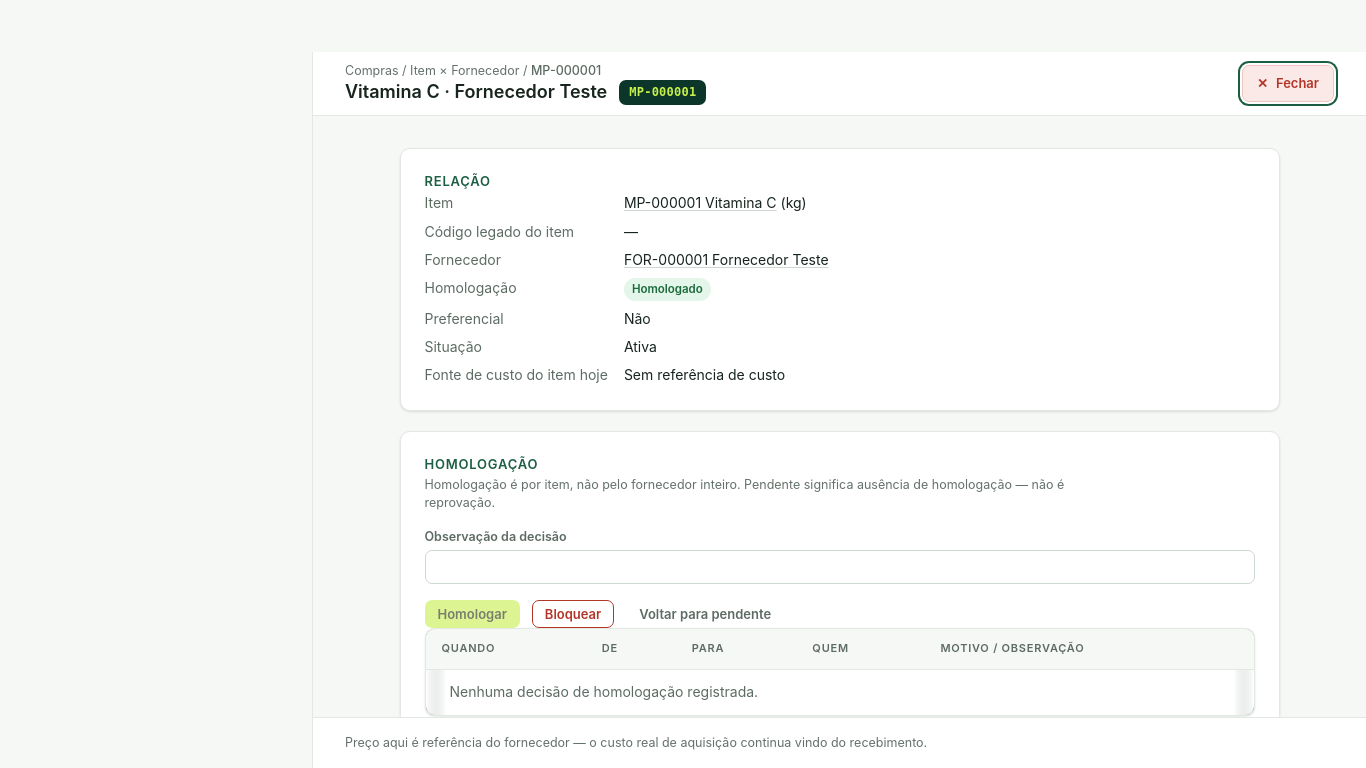
Scenario: SUPPLIER-QUALITY-REJECTION-REASON-01 — Bloquear no detalhe da relação › recusa do servidor aparece com a frase, e o motivo digitado não se perde
Expected: the heading "Vitamina C · Fornecedor Teste" is shown, x1=345 y1=81 x2=607 y2=104
Click the button "Bloquear": coordinates (573, 614) x1=532 y1=600 x2=614 y2=628
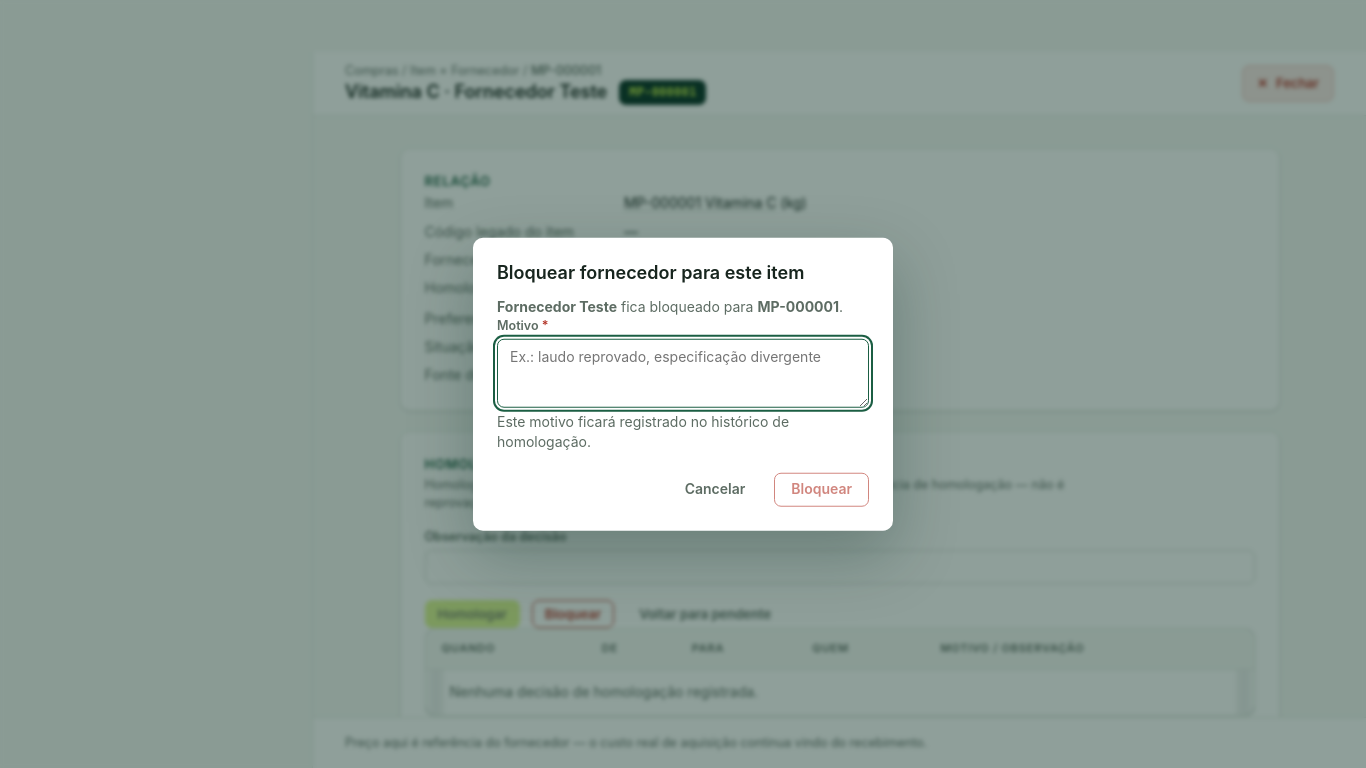
In the text box labelled "Motivo *": coordinates (683, 373) x1=497 y1=339 x2=869 y2=408, type "Laudo reprovado"
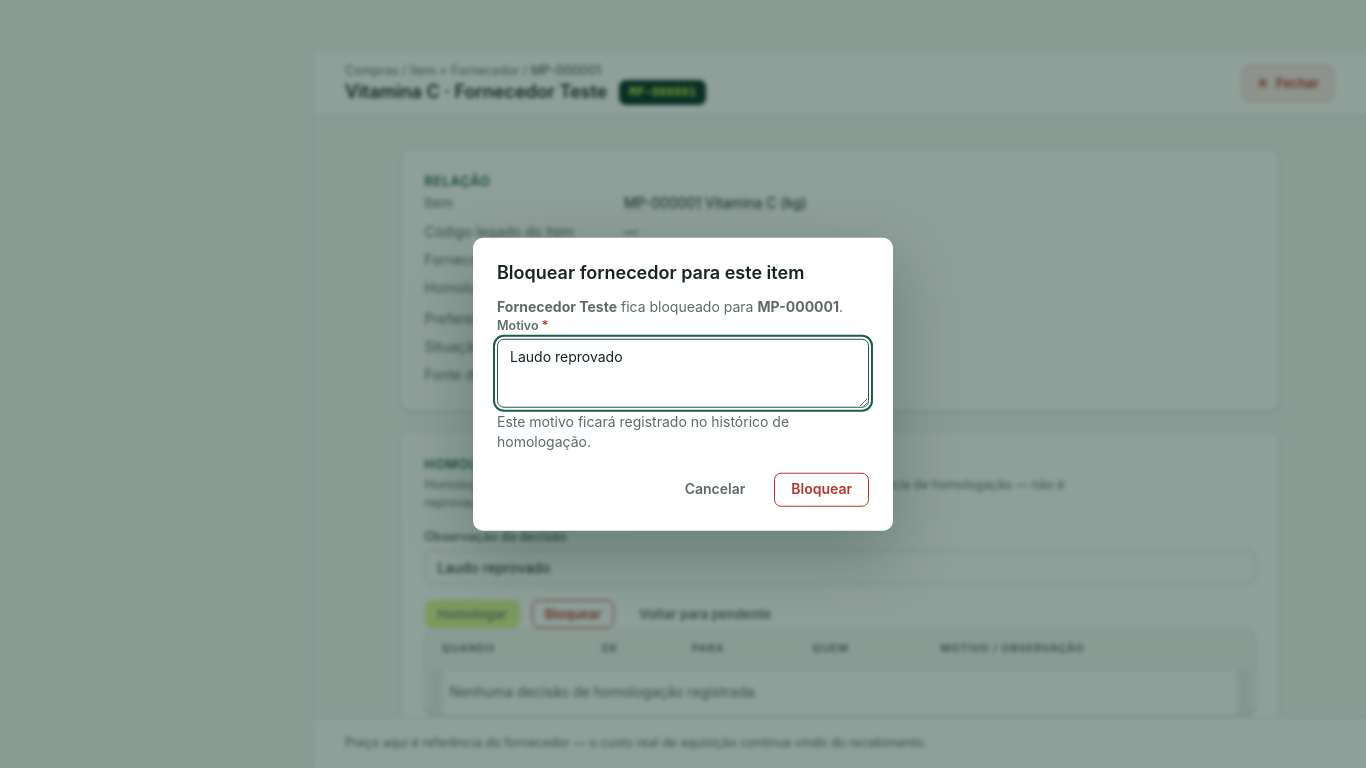
Click the button "Bloquear": coordinates (822, 489) x1=774 y1=472 x2=869 y2=506
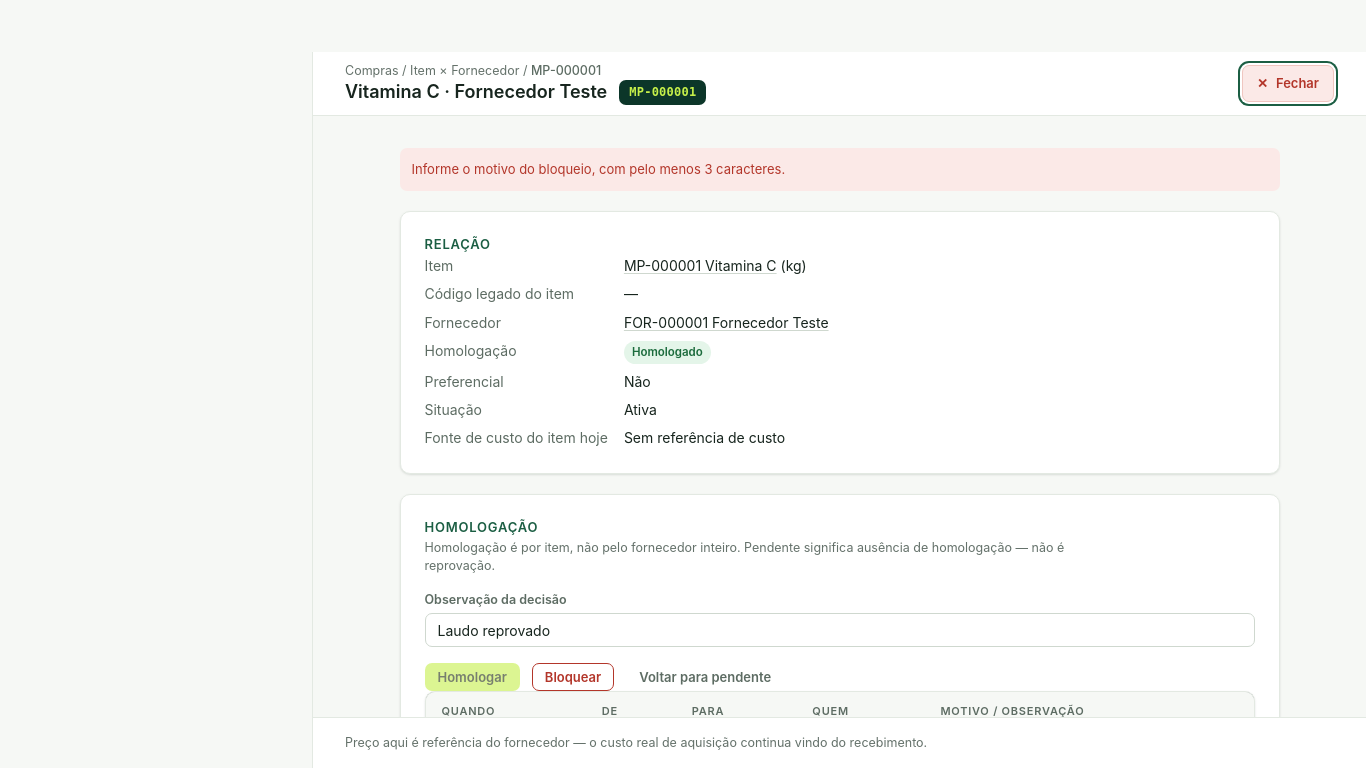
Expected: the field labelled "Observação da decisão" holds "Laudo reprovado", x1=424 y1=613 x2=1254 y2=647
Expected: the message reads "Informe o motivo do bloqueio, com pelo menos 3 caracteres.", x1=412 y1=161 x2=785 y2=177
